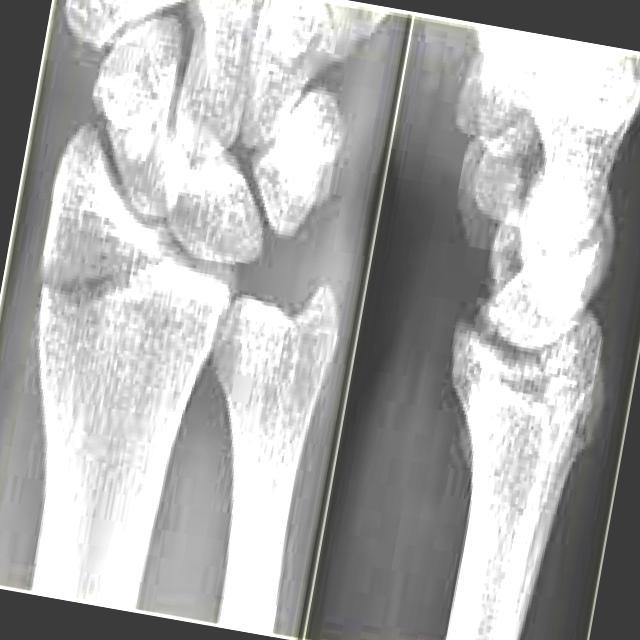Comminuted Fracture: (46, 244, 148, 316)
